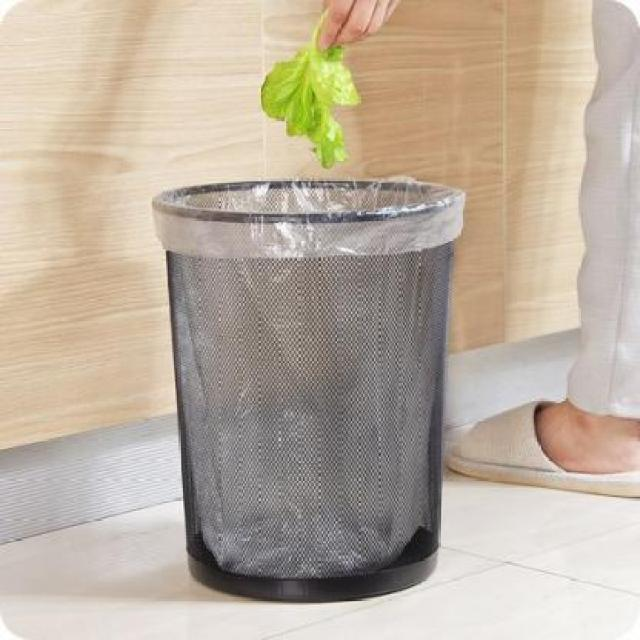dustbin: (146, 170, 472, 608)
